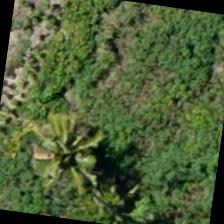Kelapa_Sawit: (27, 100, 129, 202)
